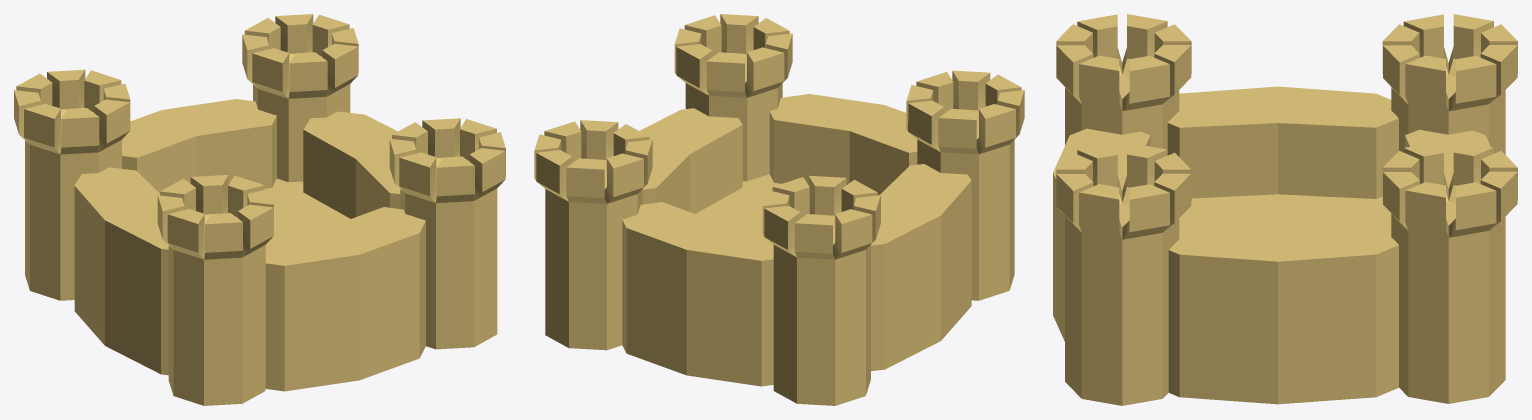
File: kumdan_kale.fbx
3 views of the same model, side by side, from view 1: azimuth 30°, elevation 25°; view 2: azimuth 150°, elevation 25°; view 3: azimuth 270°, elevation 25° (orthographic). The views are drawn at different scales.
Parts seen in each view (by area): view 1: kumdan kale; view 2: kumdan kale; view 3: kumdan kale.
Boxes of the visible parts, x1,y1,x2,y2 form: kumdan kale: (14,14,505,405); kumdan kale: (534,14,1024,405); kumdan kale: (1053,14,1517,405).
Bounding box in the file's own units: 770 × 406 × 814.
